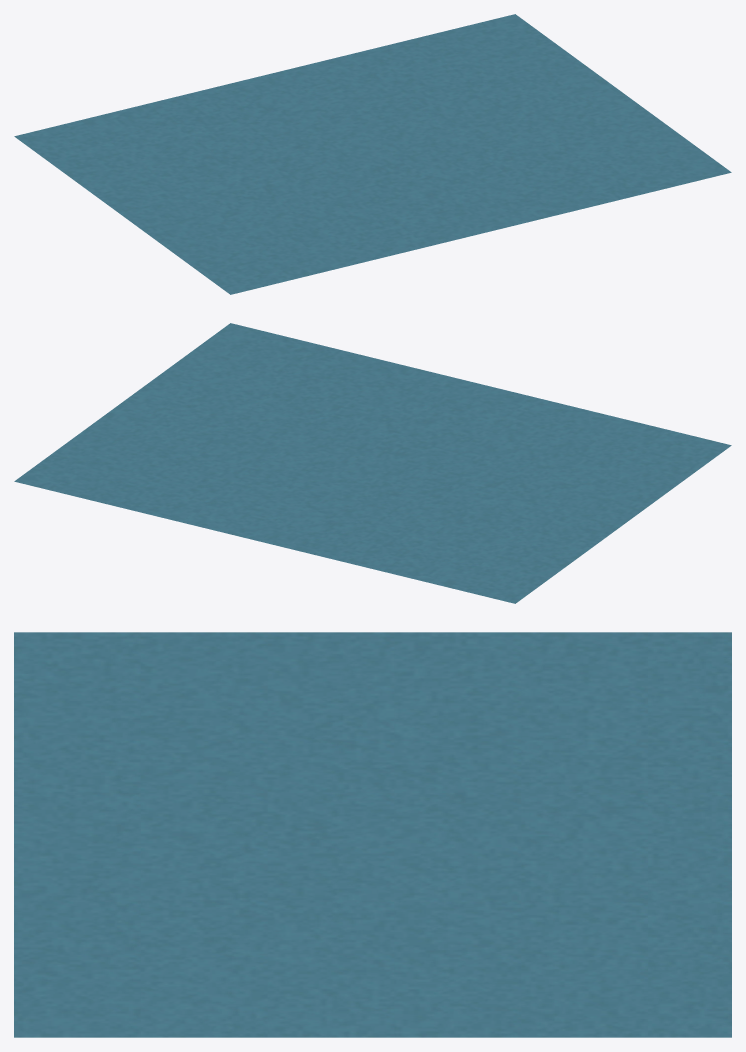
File: far.glb
3 renders of one model, top to bottom at view 1: azimuth 30°, elevation 25°; view 2: azimuth 150°, elevation 25°; view 3: azimuth 270°, elevation 25°, orthographic. The views are drawn at different scales.
Parts seen in each view (by area): view 1: ft_2_0, ft_3_0, ft_1_2, ft_3_3, ft_6_3, ft_3_4, ft_4_0, ft_6_0, ft_0_1, ft_1_1, ft_2_1, ft_4_1 (+36 smaller); view 2: ft_4_4, ft_4_0, ft_4_1, ft_5_3, ft_0_0, ft_3_0, ft_5_0, ft_6_0, ft_0_1, ft_6_1, ft_0_2, ft_2_2 (+36 smaller); view 3: ft_1_1, ft_4_1, ft_6_1, ft_1_3, ft_4_3, ft_6_3, ft_1_2, ft_4_2, ft_6_2, ft_1_0, ft_4_0, ft_6_0 (+36 smaller).
Part boxes in pixels (bbox=[...]): ft_2_0: bbox=[325, 218, 428, 262]; ft_3_0: bbox=[391, 202, 495, 246]; ft_1_2: bbox=[182, 178, 285, 222]; ft_3_3: bbox=[276, 118, 380, 162]; ft_6_3: bbox=[475, 69, 579, 113]; ft_3_4: bbox=[238, 90, 342, 134]; ft_4_0: bbox=[457, 186, 561, 229]; ft_6_0: bbox=[590, 154, 693, 197]; ft_0_1: bbox=[154, 223, 258, 266]; ft_1_1: bbox=[220, 206, 324, 250]; ft_2_1: bbox=[287, 190, 390, 234]; ft_4_1: bbox=[419, 158, 522, 201]; ft_4_4: bbox=[209, 476, 313, 520]; ft_4_0: bbox=[363, 364, 466, 408]; ft_4_1: bbox=[324, 392, 428, 436]; ft_5_3: bbox=[181, 432, 285, 476]; ft_0_0: bbox=[628, 429, 731, 473]; ft_3_0: bbox=[429, 381, 532, 424]; ft_5_0: bbox=[296, 348, 400, 392]; ft_6_0: bbox=[230, 332, 333, 376]; ft_0_1: bbox=[589, 457, 693, 501]; ft_6_1: bbox=[192, 360, 295, 404]; ft_0_2: bbox=[551, 485, 654, 529]; ft_2_2: bbox=[419, 453, 522, 496]; ft_1_1: bbox=[140, 685, 267, 739]; ft_4_1: bbox=[140, 846, 267, 900]; ft_6_1: bbox=[140, 953, 267, 1007]; ft_1_3: bbox=[394, 685, 521, 739]; ft_4_3: bbox=[394, 846, 521, 900]; ft_6_3: bbox=[394, 953, 521, 1007]; ft_1_2: bbox=[267, 685, 394, 739]; ft_4_2: bbox=[267, 846, 394, 900]; ft_6_2: bbox=[267, 953, 394, 1007]; ft_1_0: bbox=[14, 685, 140, 739]; ft_4_0: bbox=[14, 846, 140, 900]; ft_6_0: bbox=[14, 953, 140, 1007].
Bounding box in the file's own units: 3783 × 0 × 2831.
Materials: 48 (48 with a texture image).
